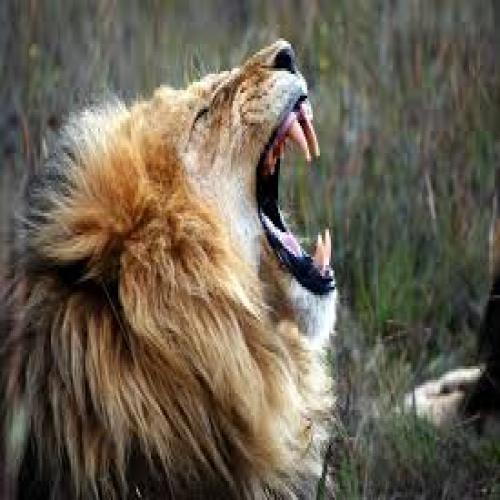lion-endangered: (0, 34, 341, 493)
